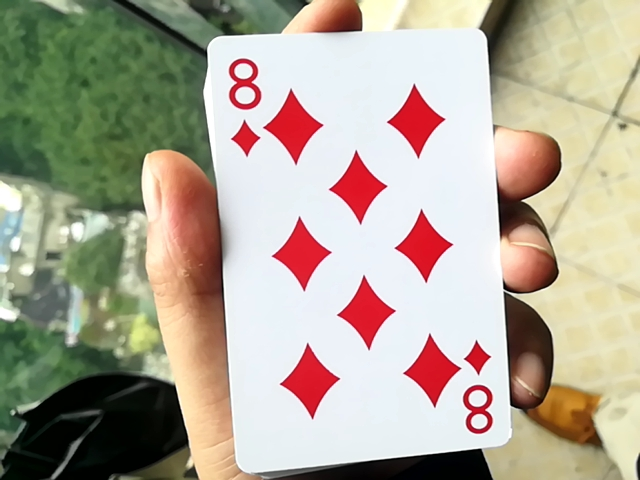fk 8: (193, 9, 504, 466)
